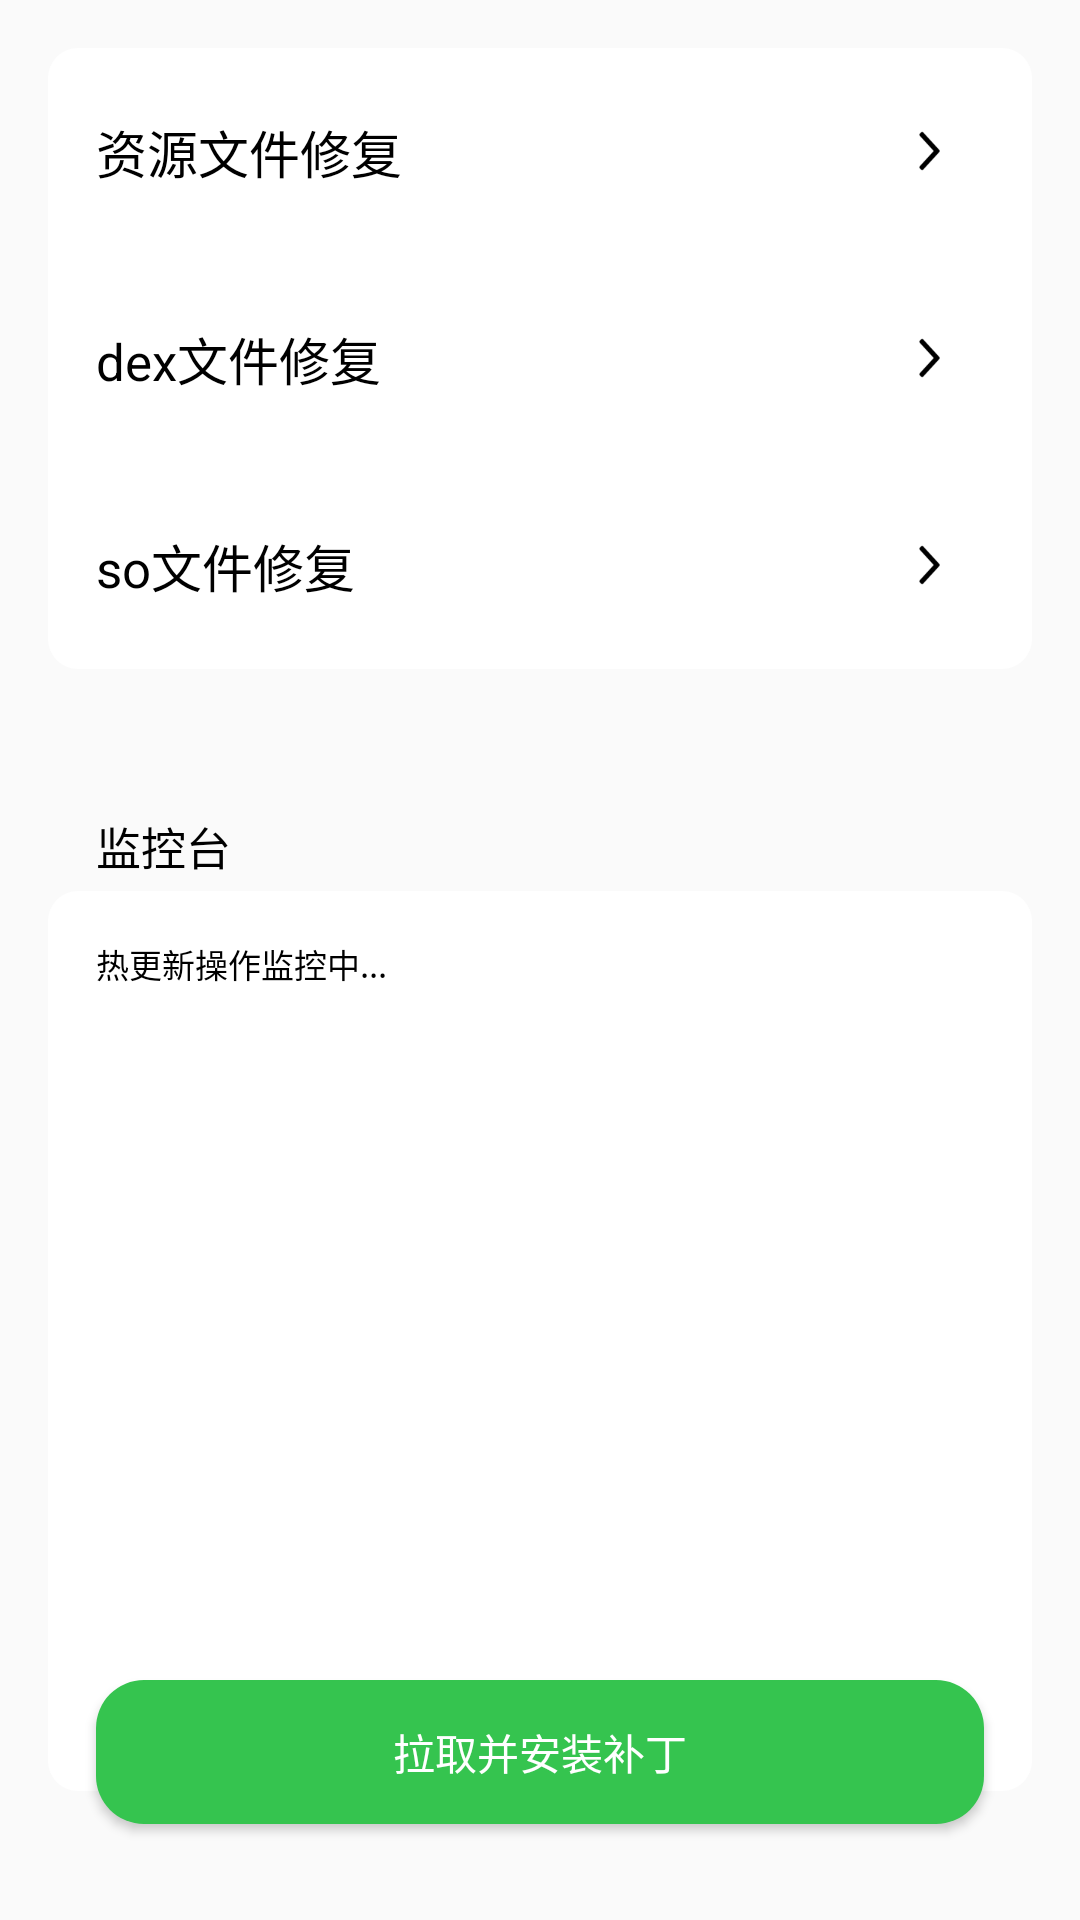

Where icons sit on this 1080 × 1920 app screen, as region(x1, y1, x2, y2):
arrow next right: region(919, 131, 940, 171), region(919, 338, 940, 378), region(919, 545, 940, 585)
